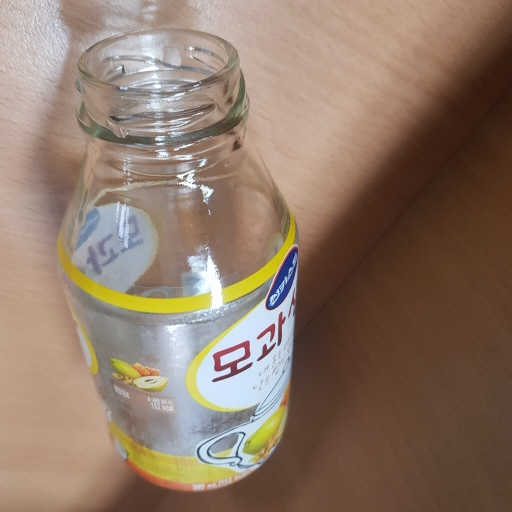Glass_4: (64, 25, 305, 493)
